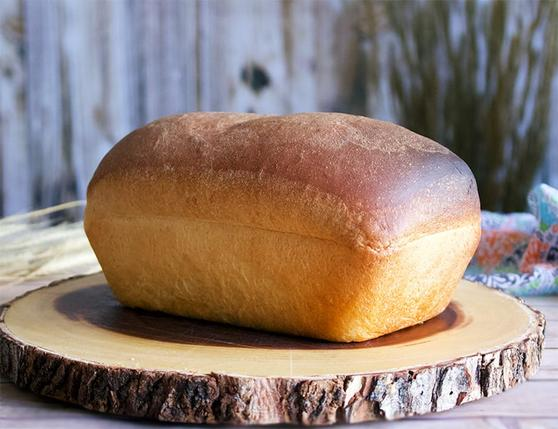white_bread: (81, 107, 484, 343)
